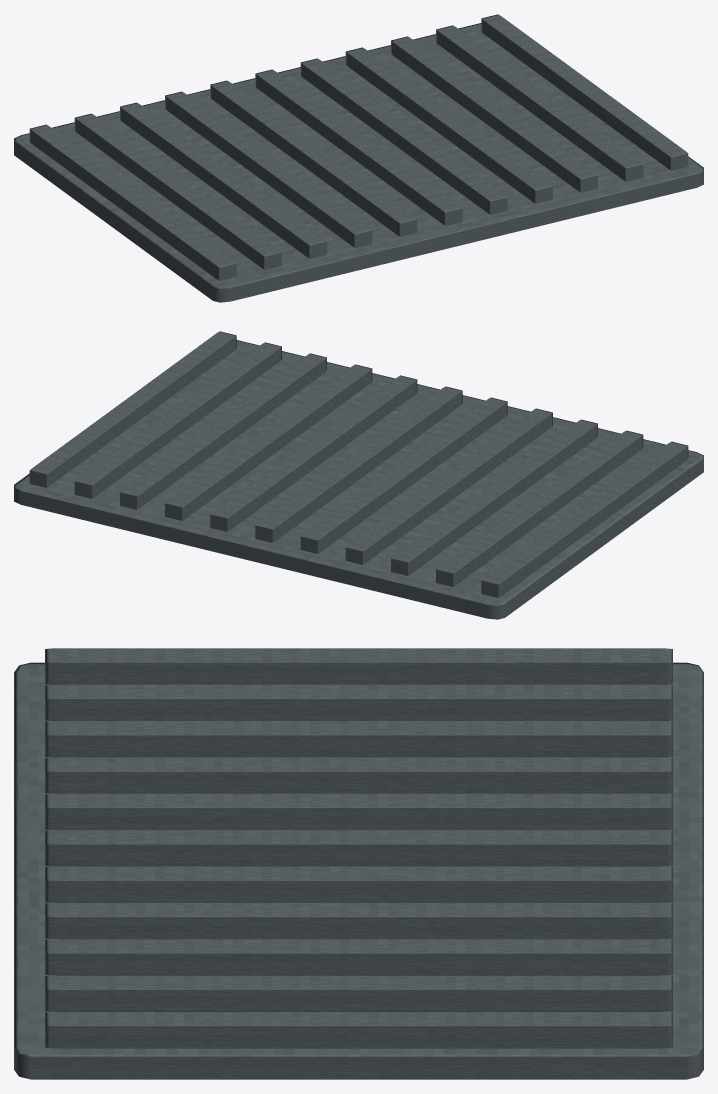
The model's file is filter.glb.
3 renders of one model, top to bottom at view 1: azimuth 30°, elevation 25°; view 2: azimuth 150°, elevation 25°; view 3: azimuth 270°, elevation 25°, orthographic. The views are drawn at different scales.
Parts seen in each view (by area): view 1: slat (×11), rim; view 2: slat (×11), rim; view 3: slat (×11), rim.
Part boxes in pixels (bbox=[...]): slat (×11): bbox=[29, 14, 688, 280]; rim: bbox=[14, 23, 703, 302]; slat (×11): bbox=[29, 331, 688, 597]; rim: bbox=[14, 340, 703, 619]; slat (×11): bbox=[45, 648, 672, 1048]; rim: bbox=[14, 662, 703, 1079].
Size of the model in its own units: 0.42 by 0.0227 by 0.31.
1 material, 1 textured.
